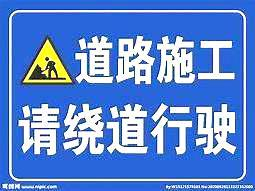sign: (6, 8, 248, 181)
